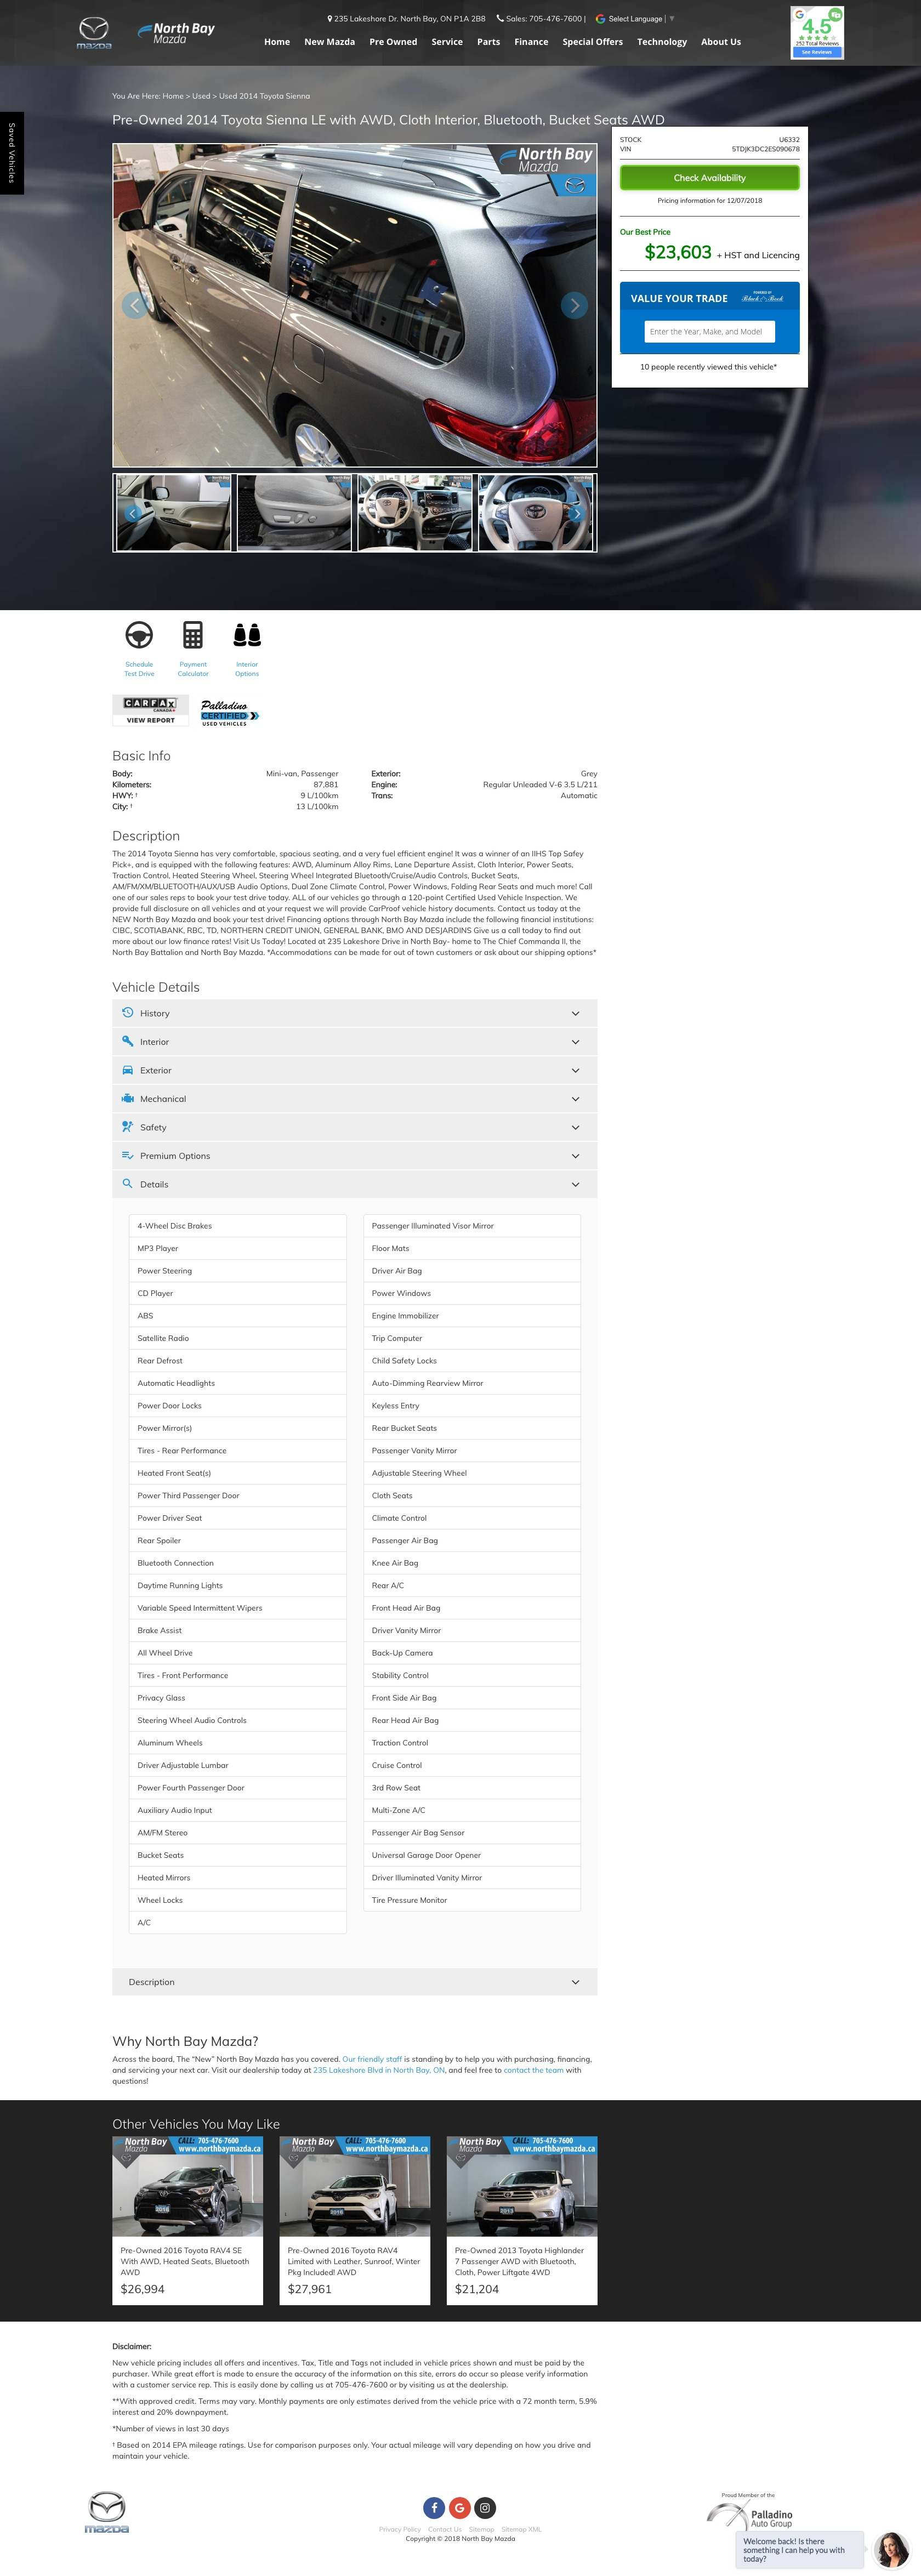car: (568, 504, 588, 524)
